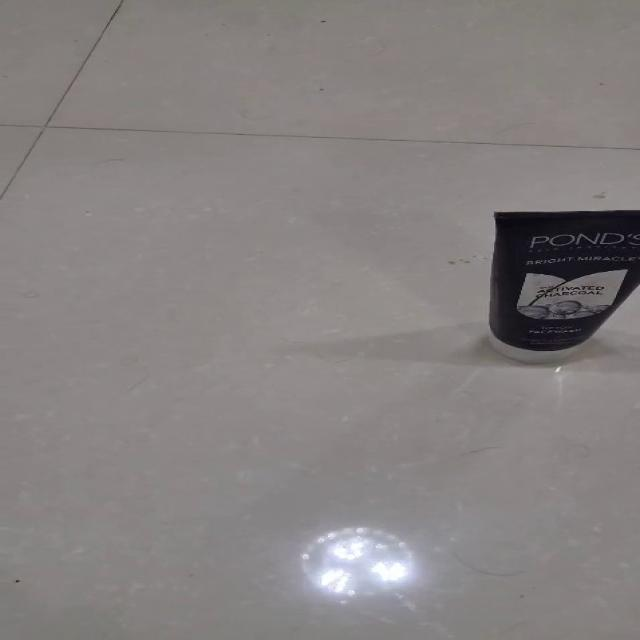plastic: (486, 208, 639, 363)
